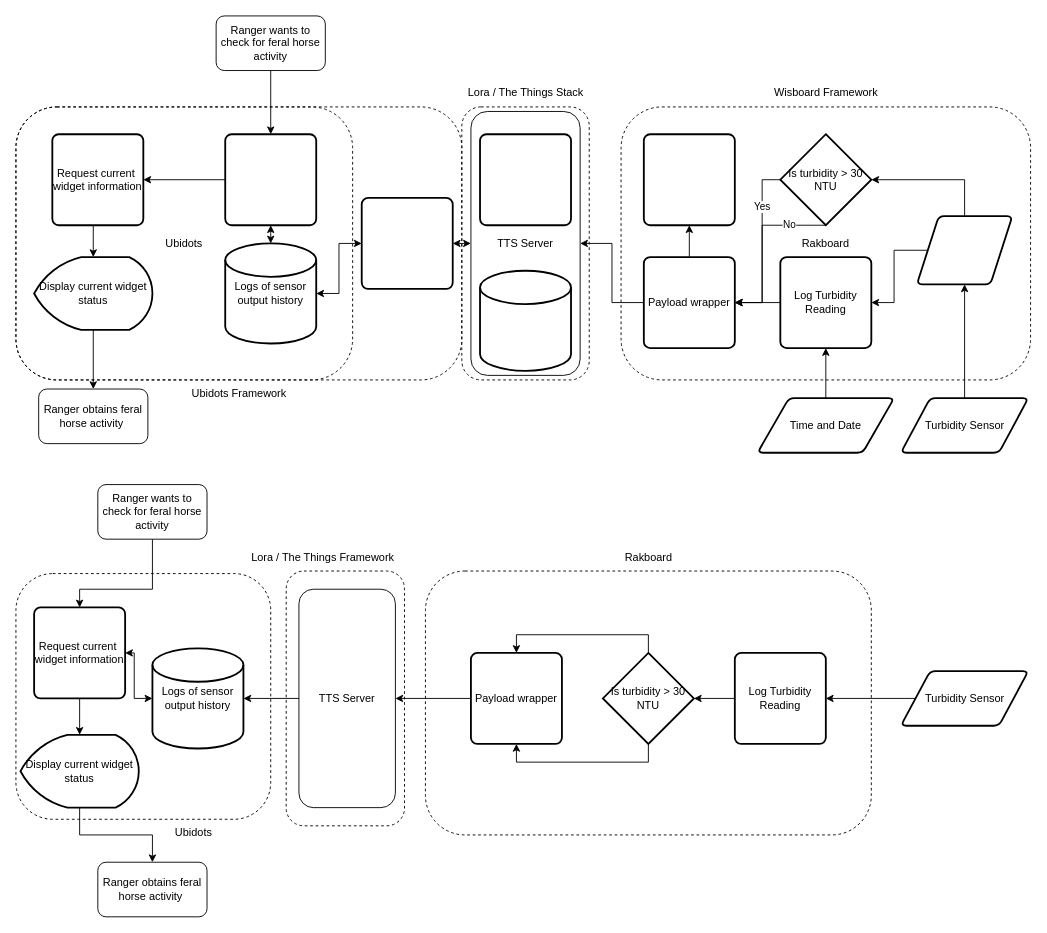
Some shapes in this 1047 by 933 pixel diagram are drawn without their labels. The shapes that lost their labels are listed below. From the top down, each one's centre as x and y in pixels, then its label:
At pixel 270 179: "Update Widget State".
At pixel 525 179: "Lora Authentication and Connection Server".
At pixel 688 179: "Upload payload to TTS".
At pixel 406 243: "Ubidots plugin for TTS".
At pixel 964 250: "Rakboard Analogue Input".
At pixel 525 320: "Logs of uploaded payloads".
